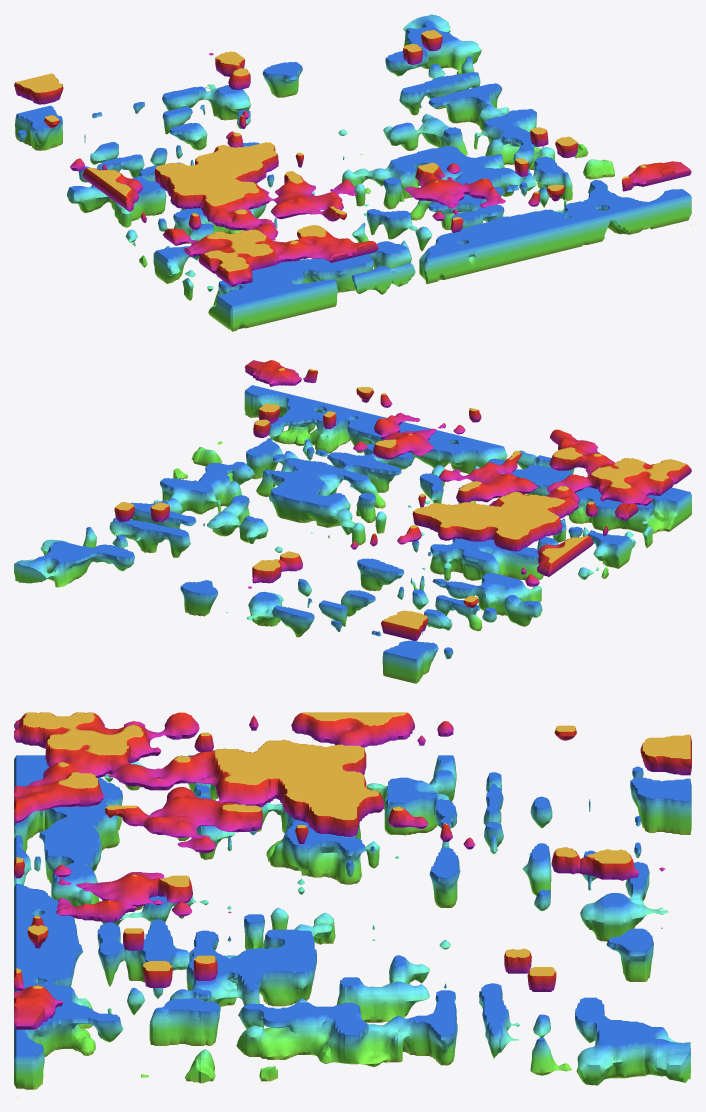
Rendered from blob.gltf.
3 renders of one model, top to bottom at view 1: azimuth 30°, elevation 25°; view 2: azimuth 150°, elevation 25°; view 3: azimuth 270°, elevation 25°, orthographic. The views are drawn at different scales.
Visible parts, largest first — view 1: Volumi_Sezioni; view 2: Volumi_Sezioni; view 3: Volumi_Sezioni.
Boxes of the visible parts, x1=… form: Volumi_Sezioni: x1=14, y1=14, x2=691, y2=331; Volumi_Sezioni: x1=14, y1=360, x2=691, y2=683; Volumi_Sezioni: x1=14, y1=712, x2=691, y2=1097.
Bounding box in the file's own units: 29.94 × 3.89 × 28.36.
1 material, 1 textured.
